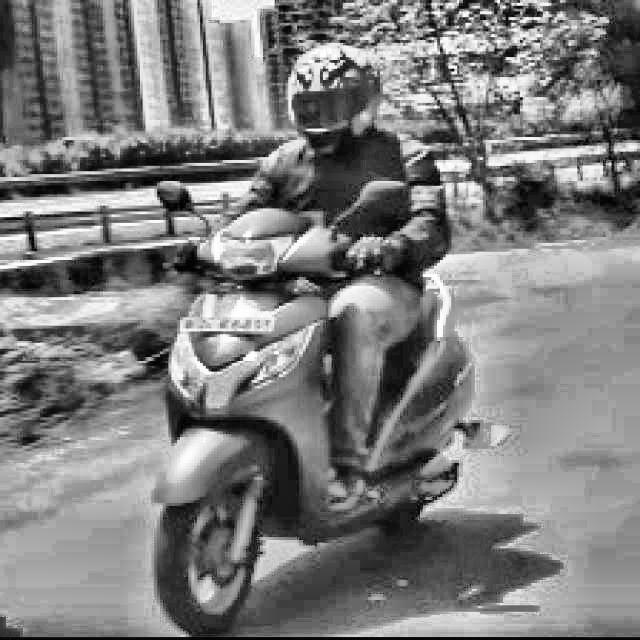motorcycle: (129, 164, 529, 628)
